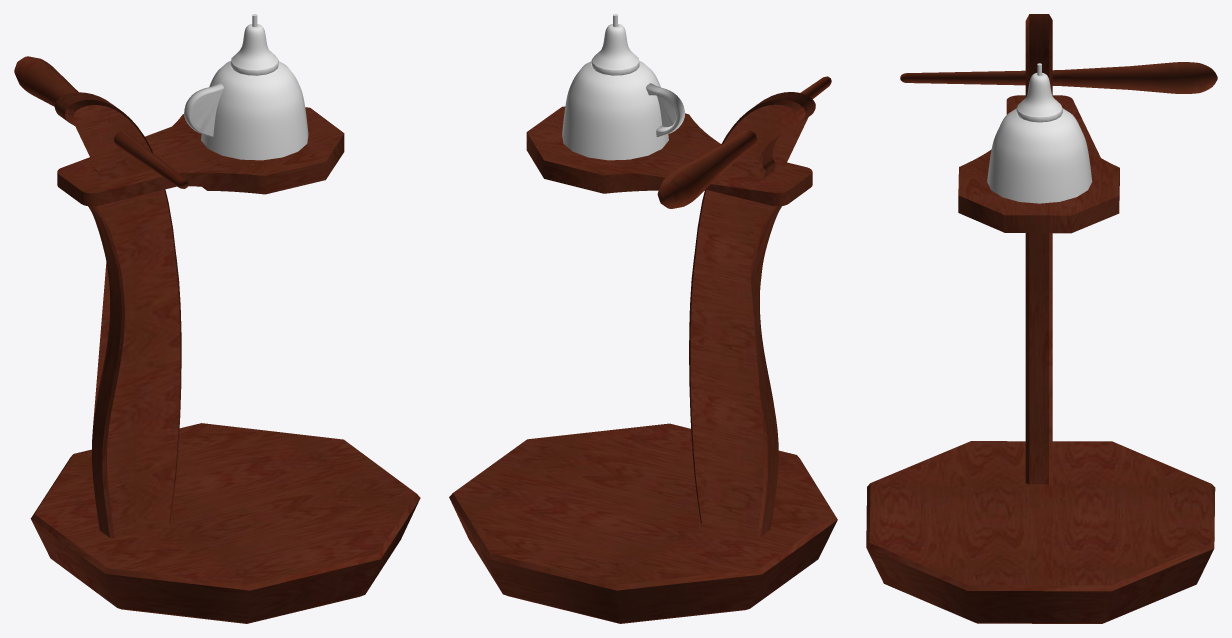
3 views of the same model, side by side, from view 1: azimuth 30°, elevation 25°; view 2: azimuth 150°, elevation 25°; view 3: azimuth 270°, elevation 25° (orthographic). The views are drawn at different scales.
Parts seen in each view (by area): view 1: 촛대; view 2: 촛대; view 3: 촛대.
Part boxes in pixels (box(x1,y1,x2,y2)): 촛대: box(14, 14, 420, 623); 촛대: box(449, 14, 837, 623); 촛대: box(866, 14, 1217, 623).
Bounding box in the file's own units: 12.62 × 19.76 × 12.35.
